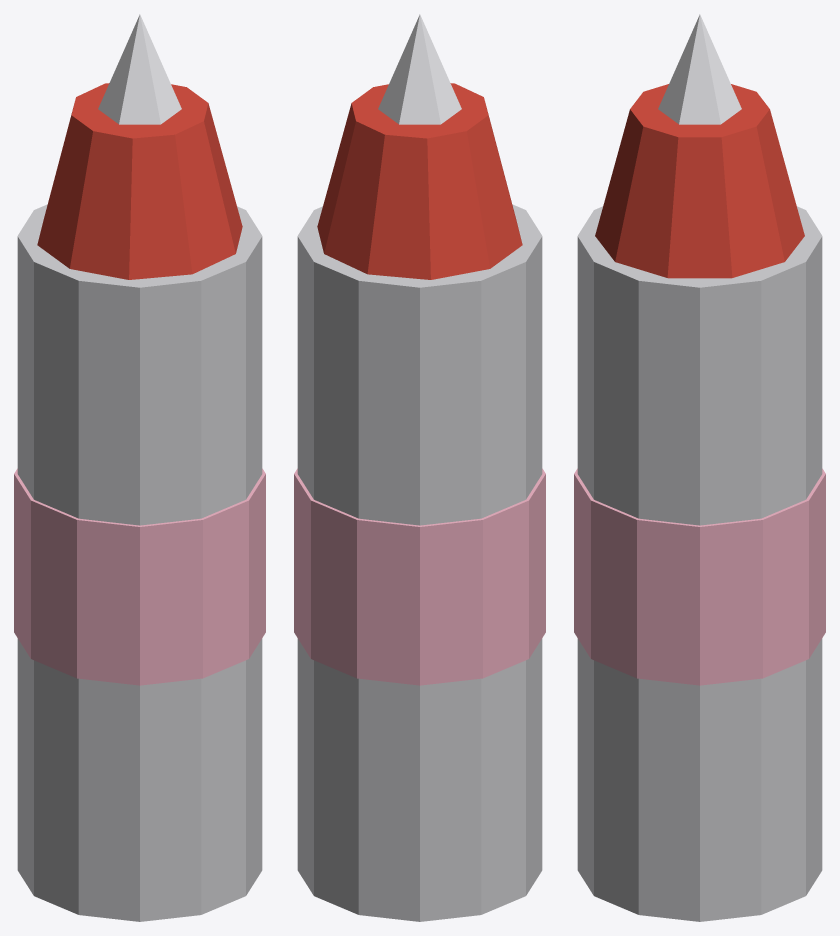
Rendered from cream_spray.glb.
3 renders of one model, left to right at view 1: azimuth 30°, elevation 25°; view 2: azimuth 150°, elevation 25°; view 3: azimuth 270°, elevation 25°, orthographic.
Visible parts, largest first — view 1: can_spray_white, stripe_frosting_pink, cap_logo_red, nozzle_spray_white; view 2: can_spray_white, stripe_frosting_pink, cap_logo_red, nozzle_spray_white; view 3: can_spray_white, stripe_frosting_pink, cap_logo_red, nozzle_spray_white.
Boxes of the visible parts, bbox=[...] form: can_spray_white: bbox=[17, 204, 262, 921]; stripe_frosting_pink: bbox=[14, 468, 265, 685]; cap_logo_red: bbox=[37, 83, 242, 279]; nozzle_spray_white: bbox=[98, 14, 181, 124]; can_spray_white: bbox=[297, 204, 542, 921]; stripe_frosting_pink: bbox=[294, 468, 545, 685]; cap_logo_red: bbox=[317, 83, 522, 279]; nozzle_spray_white: bbox=[378, 14, 461, 124]; can_spray_white: bbox=[577, 206, 822, 921]; stripe_frosting_pink: bbox=[574, 468, 825, 685]; cap_logo_red: bbox=[595, 84, 804, 278]; nozzle_spray_white: bbox=[658, 14, 741, 124].
Bounding box in the file's own units: 0.072 × 0.27 × 0.072.
